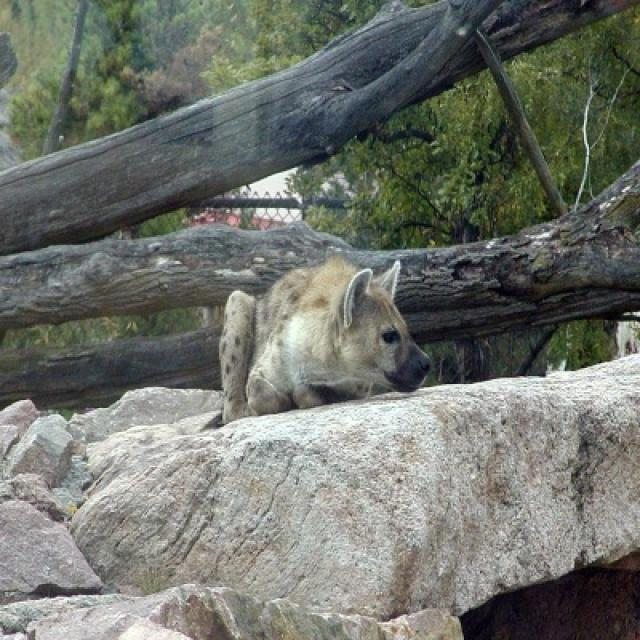hyena: (219, 256, 429, 422)
